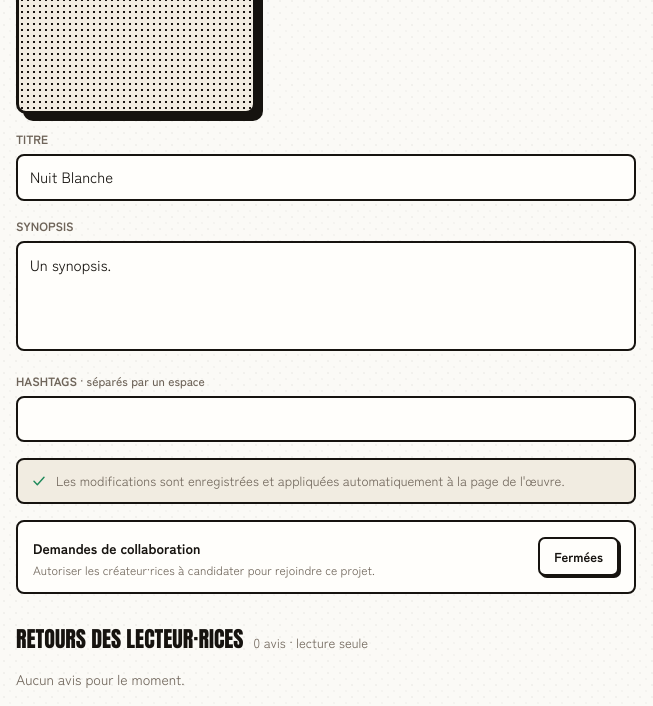
it: InfosPanel › parses space-separated hashtags into chips and sends an array
(page scrolled)
Type "#Shonen aventure" into the field labelled "HASHTAGS · séparés par un espace" at (326, 419), box [16,396,636,442]
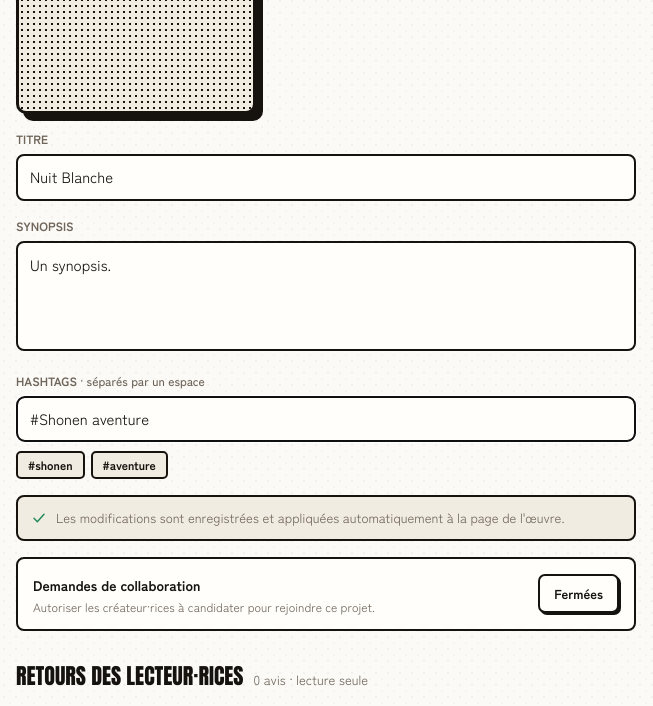
Check: the text "#shonen" is shown, box [16,451,84,479]
Check: the text "#aventure" is shown, box [90,451,168,479]
